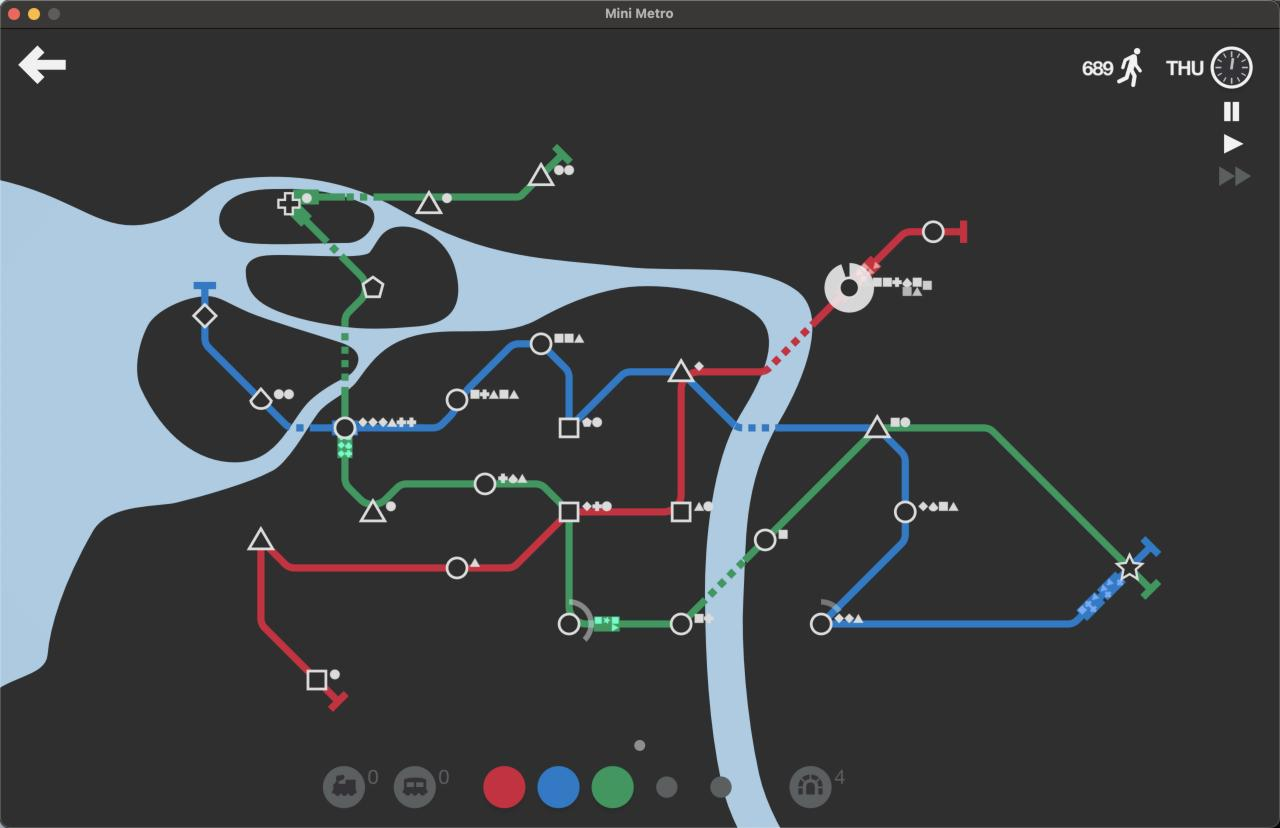CIRCLE: (332, 415, 357, 440), (669, 610, 693, 636), (921, 219, 945, 244), (557, 612, 581, 637), (809, 612, 833, 637), (754, 528, 778, 552), (529, 332, 553, 356), (445, 556, 469, 580), (893, 500, 918, 523), (446, 388, 469, 412), (474, 472, 497, 496), (839, 276, 860, 300)
CROSS: (275, 191, 300, 215)
GEM: (192, 303, 218, 327)
PENTAGON: (361, 275, 384, 299)
SQUARE: (558, 416, 580, 439), (670, 500, 692, 523), (558, 501, 581, 523), (306, 669, 327, 691)
STAR: (1115, 554, 1144, 582)
TRIANGLE: (359, 497, 388, 524), (863, 413, 891, 439), (526, 161, 554, 187), (415, 189, 443, 215), (247, 526, 276, 551), (667, 357, 694, 383)
WEDGE: (249, 387, 272, 410)
